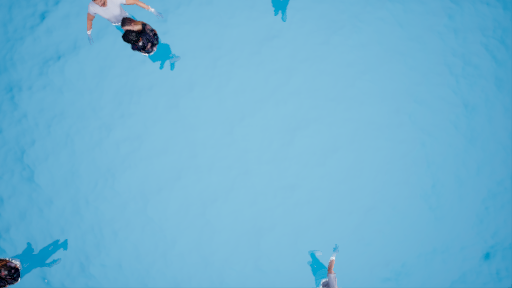person: (80, 1, 166, 47), (118, 16, 176, 73)
